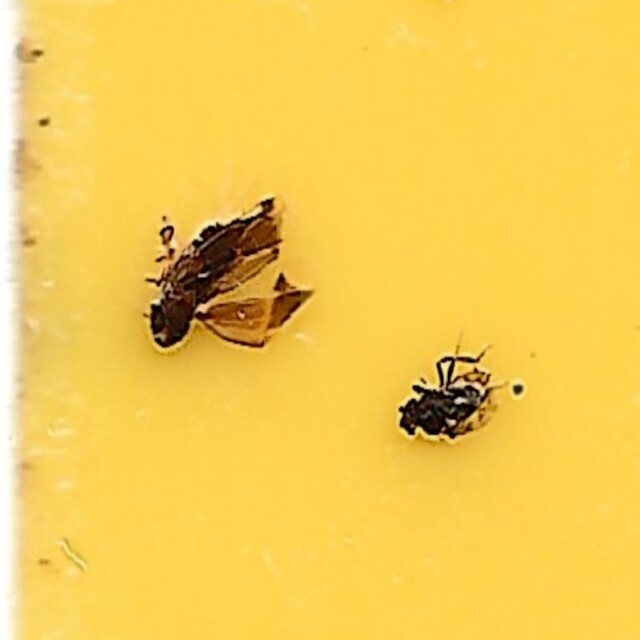Brachycera: (387, 342, 500, 450)
Hemiptera: (140, 190, 317, 355)
